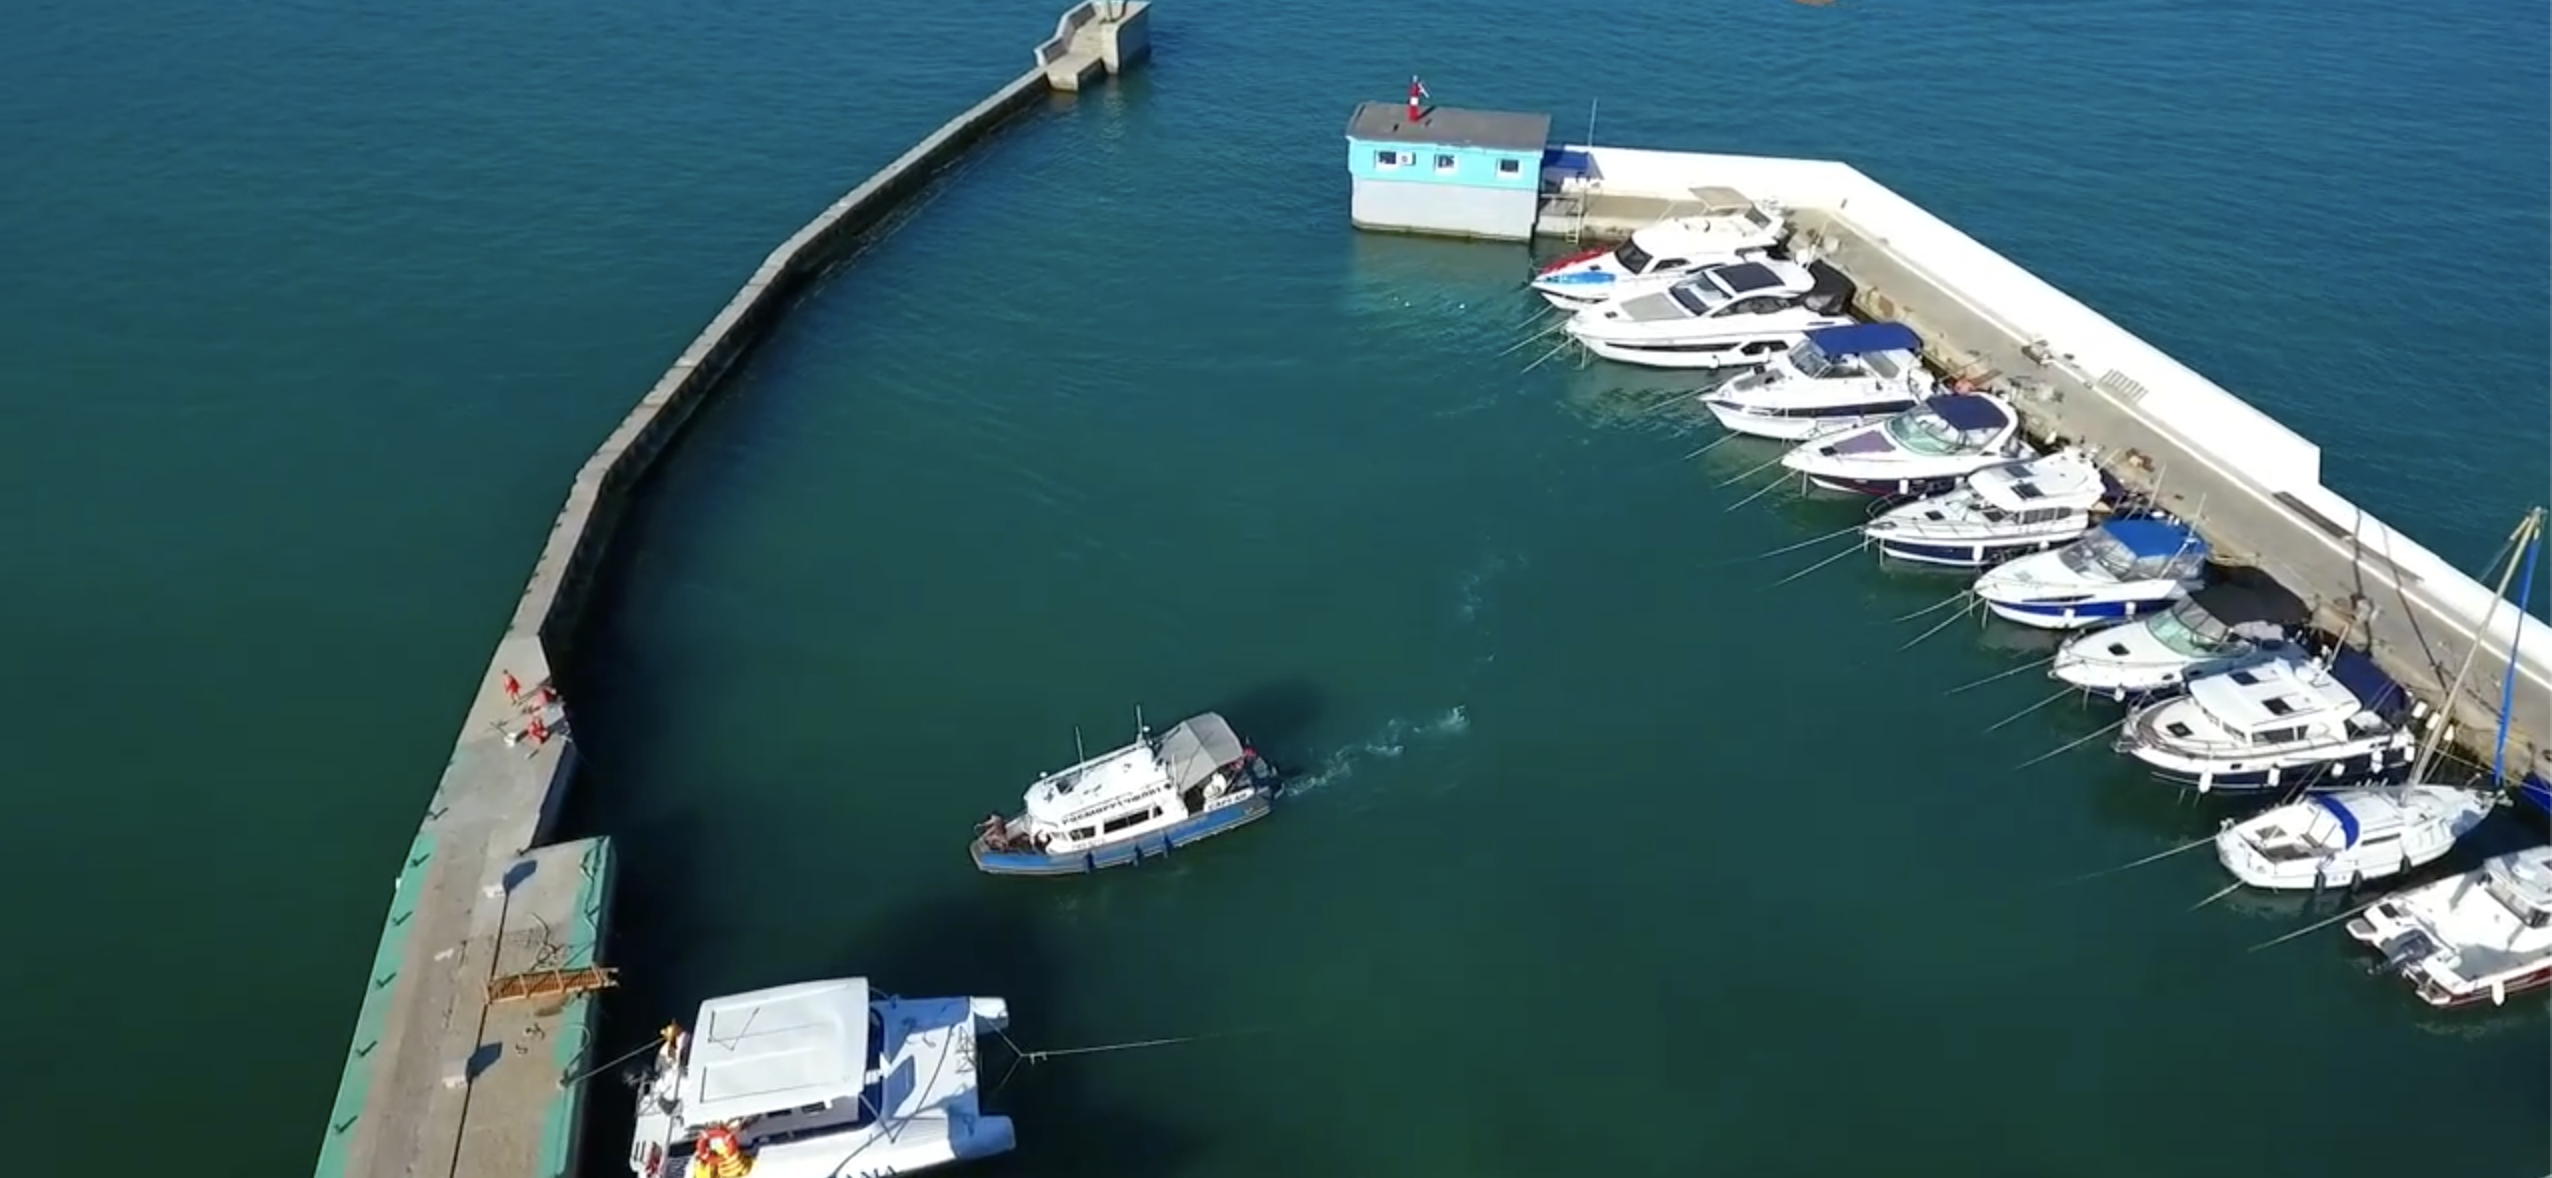ship: (641, 989, 1040, 1178), (941, 713, 1317, 901), (1554, 267, 1904, 387), (1693, 334, 1940, 447), (2196, 804, 2542, 883), (2104, 579, 2305, 705), (2326, 905, 2552, 1012), (1527, 212, 1787, 301), (1945, 451, 2113, 579), (2126, 705, 2462, 765), (1834, 395, 2007, 501), (1951, 566, 2231, 600)
